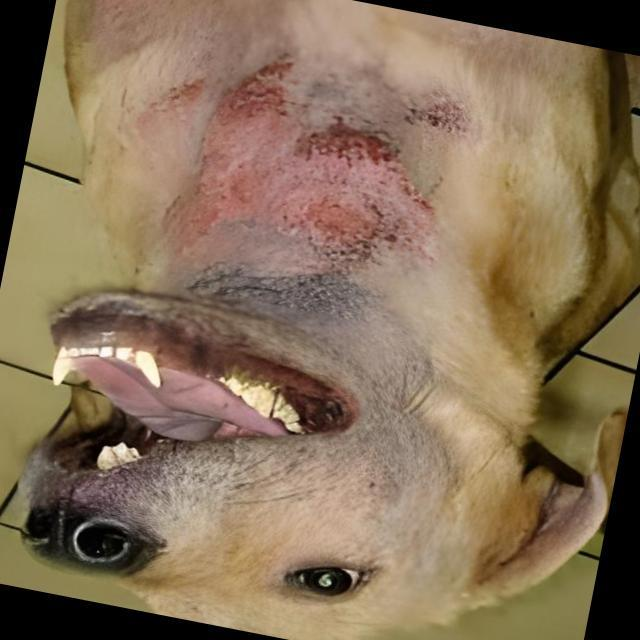allergic dermatitis: (154, 56, 458, 277)
